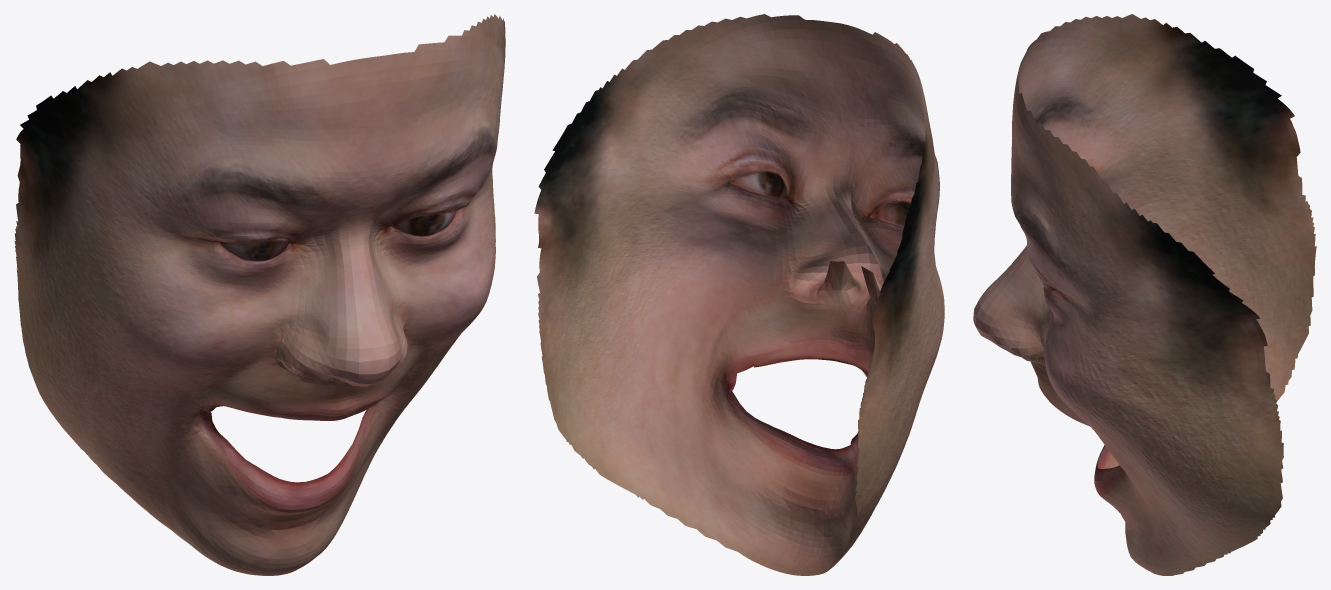
Rendered from footage1_mesh.obj.
The picture shows the model from 3 angles, left to right: view 1: azimuth 30°, elevation 25°; view 2: azimuth 150°, elevation 25°; view 3: azimuth 270°, elevation 25°; orthographic projection. The views are drawn at different scales.
Size of the model in its own units: 1.38 by 1.76 by 1.08.
